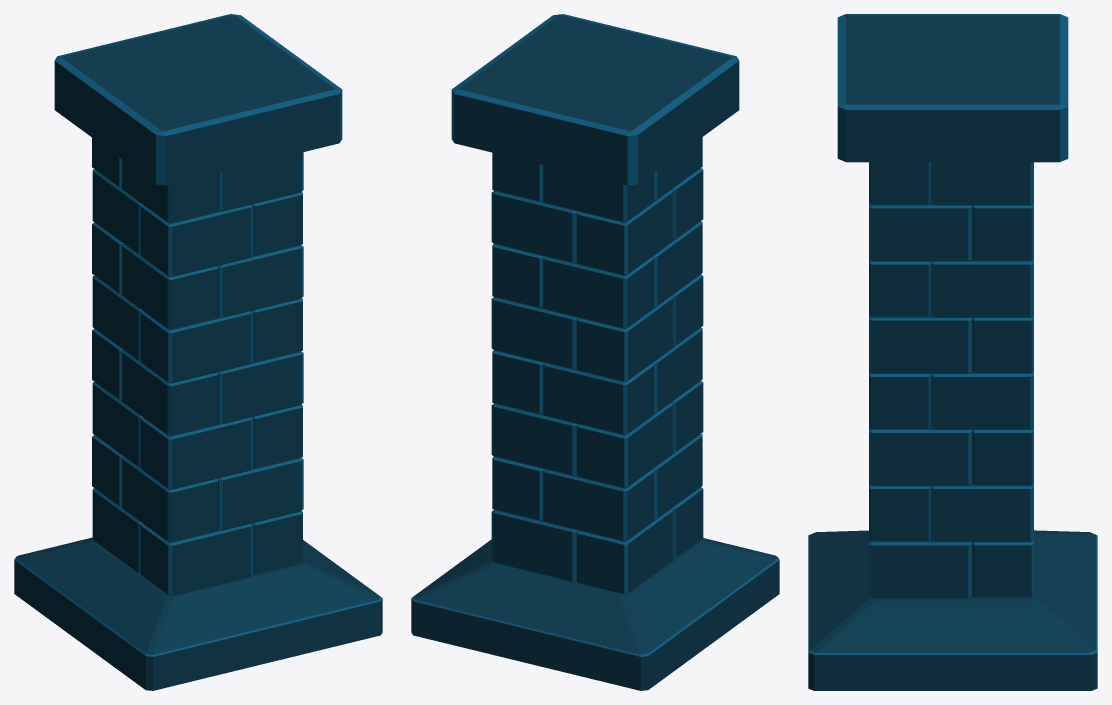
File: pillar_type_04.fbx
3 views of the same model, side by side, from view 1: azimuth 30°, elevation 25°; view 2: azimuth 150°, elevation 25°; view 3: azimuth 270°, elevation 25° (orthographic). The views are drawn at different scales.
Visible parts, largest first — view 1: pillar_type_04; view 2: pillar_type_04; view 3: pillar_type_04.
Part boxes in pixels (<box>): pillar_type_04: <box>14,14,382,690</box>; pillar_type_04: <box>411,14,779,690</box>; pillar_type_04: <box>808,14,1097,690</box>.
Size of the model in its own units: 140 by 305 by 140.
